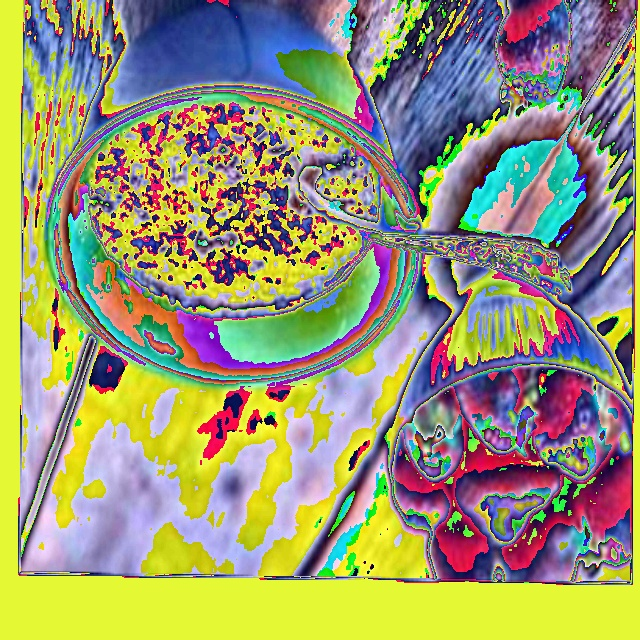background: (241, 217, 632, 581), (86, 101, 383, 324), (78, 0, 572, 120)
